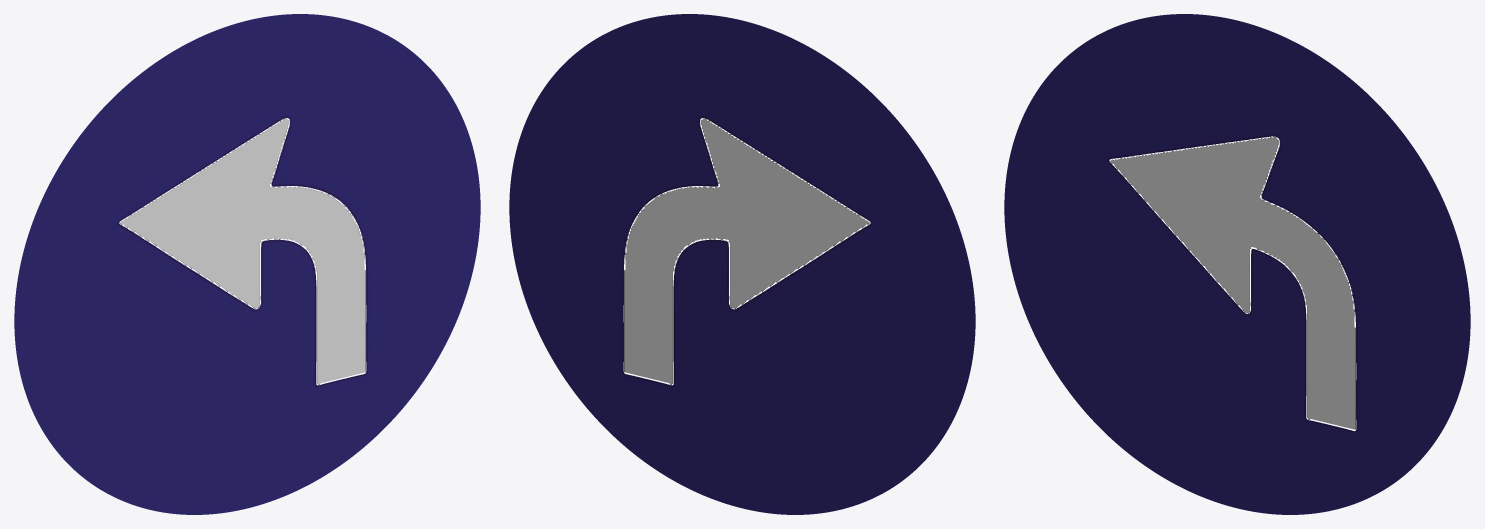
Rendered from ileriden-sola-mecburi-yon.dae.
The picture shows the model from 3 angles, left to right: view 1: azimuth 30°, elevation 25°; view 2: azimuth 150°, elevation 25°; view 3: azimuth 330°, elevation 25°; orthographic projection.
Parts seen in each view (by area): view 1: Circle; view 2: Circle; view 3: Circle.
Part boxes in pixels (x1,y1,x2,y2): Circle: [14, 14, 480, 514]; Circle: [509, 14, 975, 514]; Circle: [1004, 14, 1470, 514].
Size of the model in its own units: 0.24 by 1.05e-08 by 0.24.
Materials: 1 (1 with a texture image).
